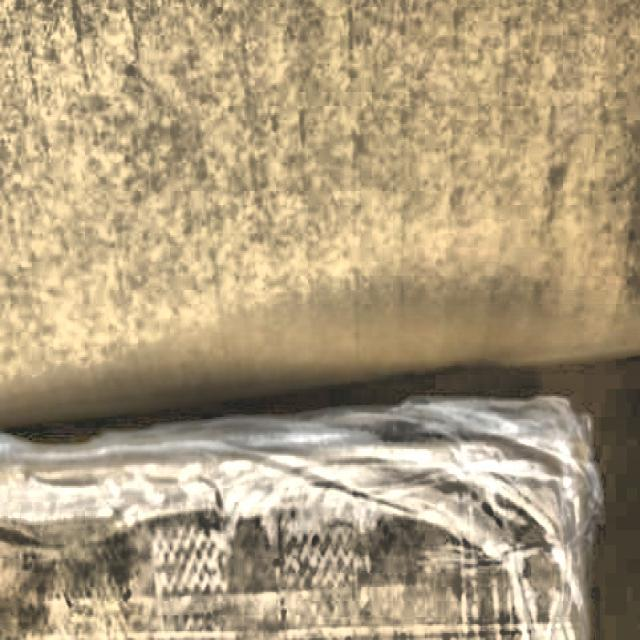cardboard: (0, 395, 605, 640)
